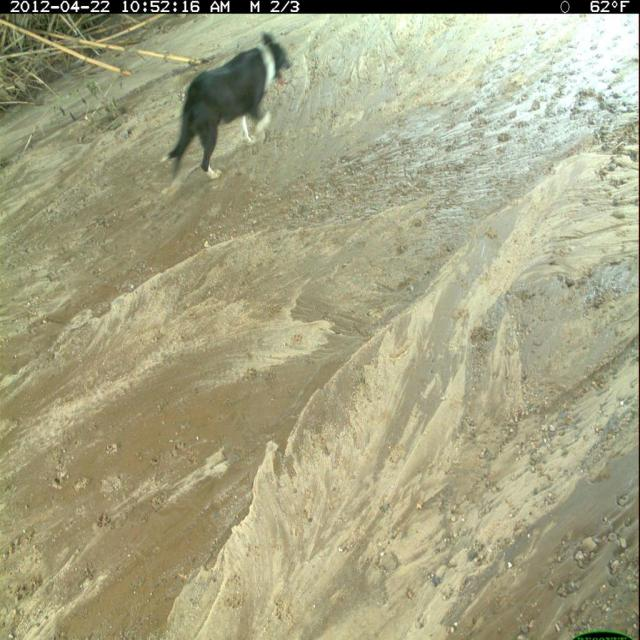dog: (158, 30, 296, 192)
